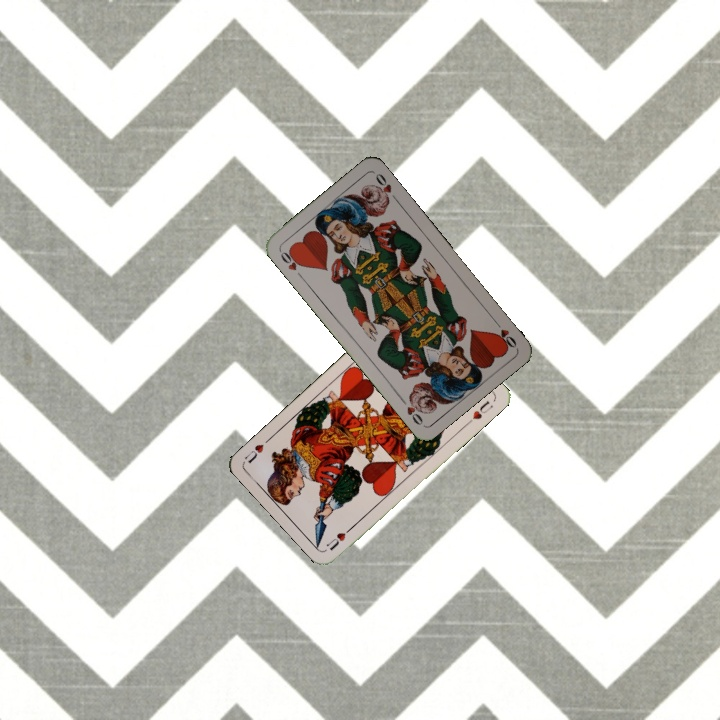HO: (276, 246, 306, 281), (489, 316, 519, 351)
HU: (322, 522, 356, 553)
